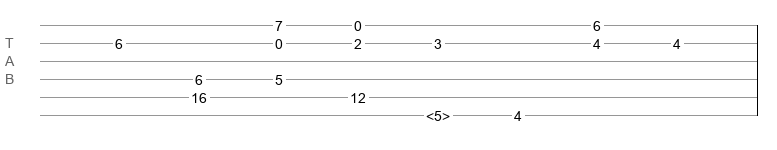0: (275, 36, 283, 46), (354, 18, 362, 28)
12: (350, 90, 366, 100)
16: (191, 90, 207, 100)
2: (354, 36, 362, 46)
3: (434, 36, 442, 46)
4: (514, 108, 522, 118), (593, 36, 601, 46), (673, 36, 681, 46)
5: (275, 72, 283, 82)
6: (115, 36, 123, 46), (195, 72, 203, 82), (593, 18, 601, 28)
7: (275, 18, 283, 28)
harmonic: (426, 108, 450, 118)
